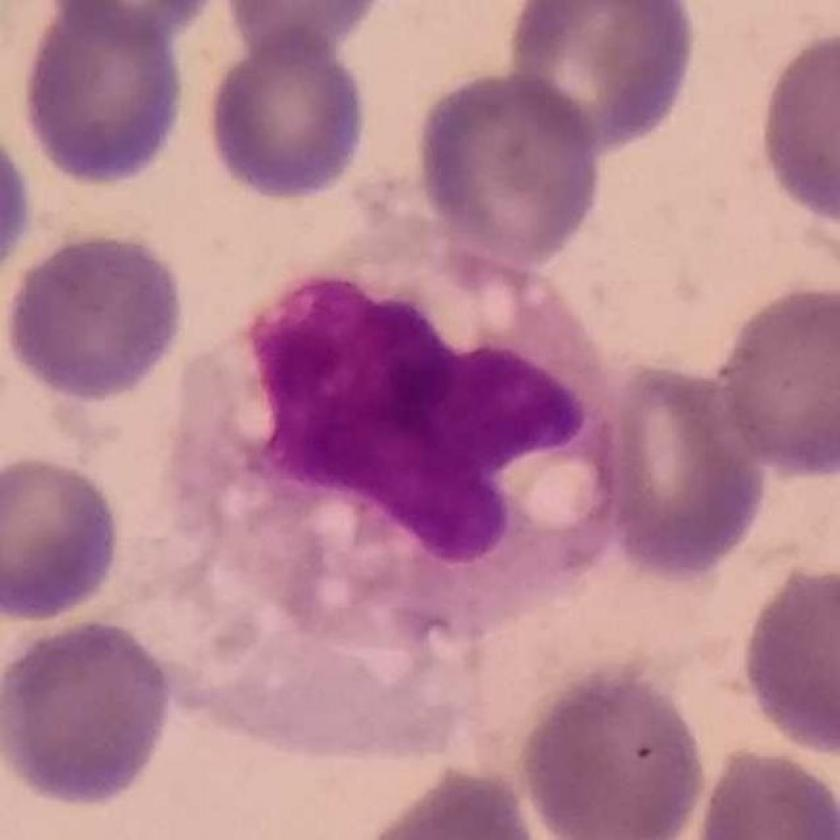monocyte: (136, 182, 647, 652)
